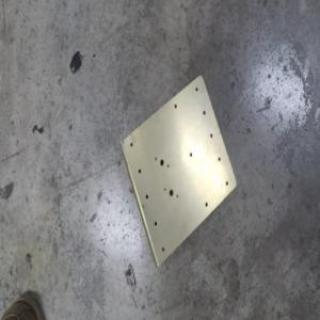MetalSheettrack_idkeyframe: (117, 72, 237, 270)
